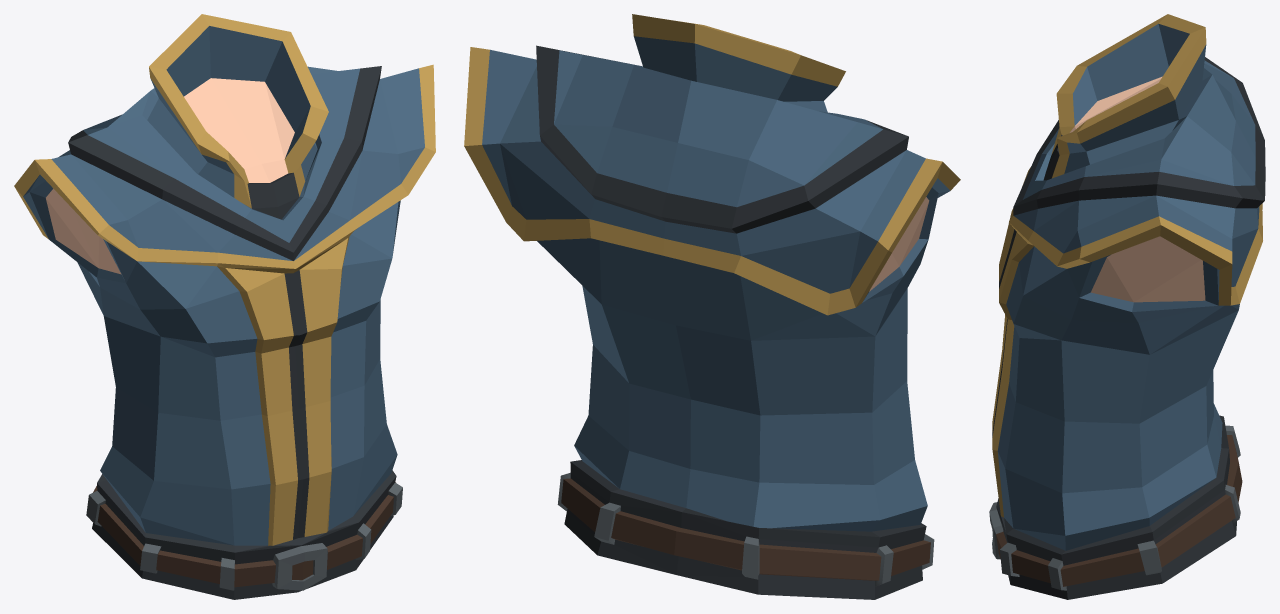
The model's file is Chr_Torso_Male_09_Static.fbx.
The picture shows the model from 3 angles, left to right: view 1: azimuth 30°, elevation 25°; view 2: azimuth 150°, elevation 25°; view 3: azimuth 270°, elevation 25°; orthographic projection. The views are drawn at different scales.
Parts seen in each view (by area): view 1: Chr_Torso_Male_09_Static; view 2: Chr_Torso_Male_09_Static; view 3: Chr_Torso_Male_09_Static.
Boxes of the visible parts, left/top/right/bottom form: Chr_Torso_Male_09_Static: left=14, top=14, right=435, bottom=599; Chr_Torso_Male_09_Static: left=464, top=14, right=960, bottom=599; Chr_Torso_Male_09_Static: left=989, top=14, right=1265, bottom=599.
Size of the model in its own units: 0.5992 by 0.7305 by 0.3438.
